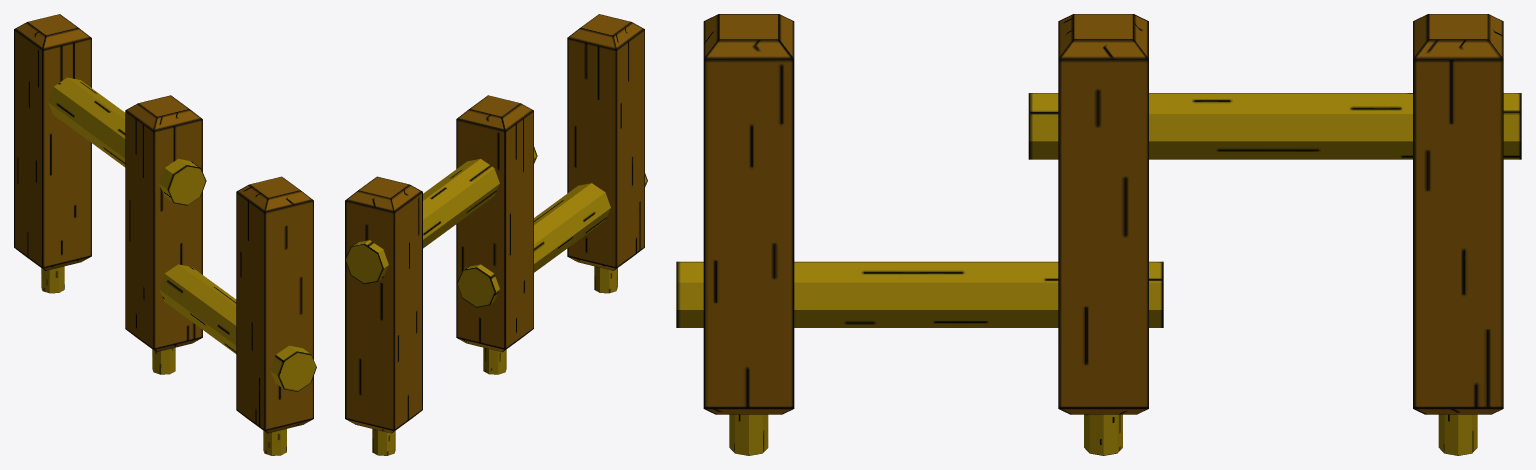
File: Fence1_1.glb
3 renders of one model, left to right at view 1: azimuth 30°, elevation 25°; view 2: azimuth 150°, elevation 25°; view 3: azimuth 270°, elevation 25°, orthographic. The views are drawn at different scales.
Parts seen in each view (by area): view 1: Fence1_1; view 2: Fence1_1; view 3: Fence1_1.
Part boxes in pixels (x1,y1,x2,y2): Fence1_1: [14, 14, 316, 455]; Fence1_1: [345, 14, 647, 455]; Fence1_1: [676, 14, 1521, 455].
Bounding box in the file's own units: 0.2561 × 1.31 × 2.38.
Materials: 1 (1 with a texture image).
